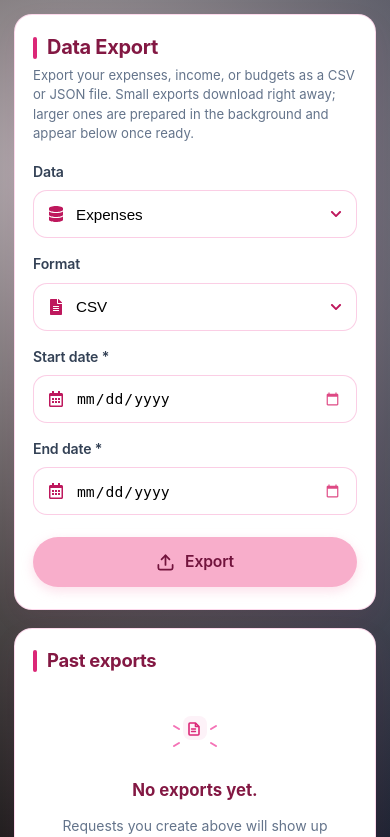
Test case: DataExport -- form › hides the date range fields and shows an explanatory note when domain is Budgets
The width and height of the screenshot is (390, 837).
Expected: the date field labelled "Start date *" is shown, [34,376,356,422]
Select "Budgets" in the dropdown labelled "Data" at (195, 214), box [34,191,356,237]
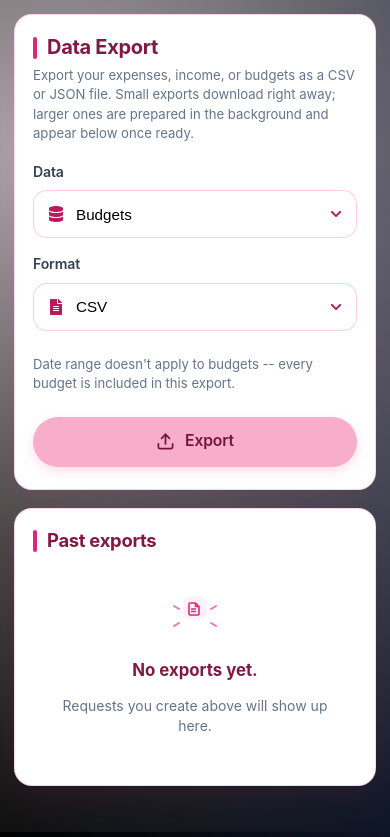
Now the label labelled "Start date" is gone
Now the label labelled "End date" is gone
Now the text "Date range doesn't apply to budgets" is shown, box [33,356,313,390]
